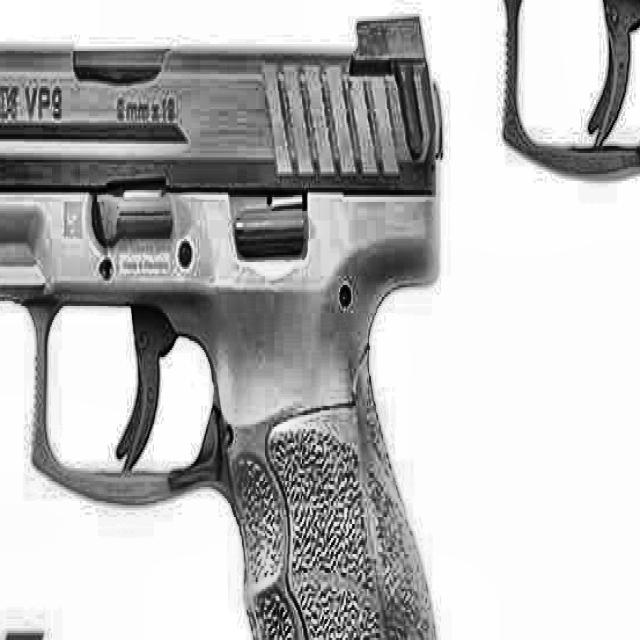Heckler - Koch -H-K-: (0, 0, 459, 640), (244, 0, 640, 603)
